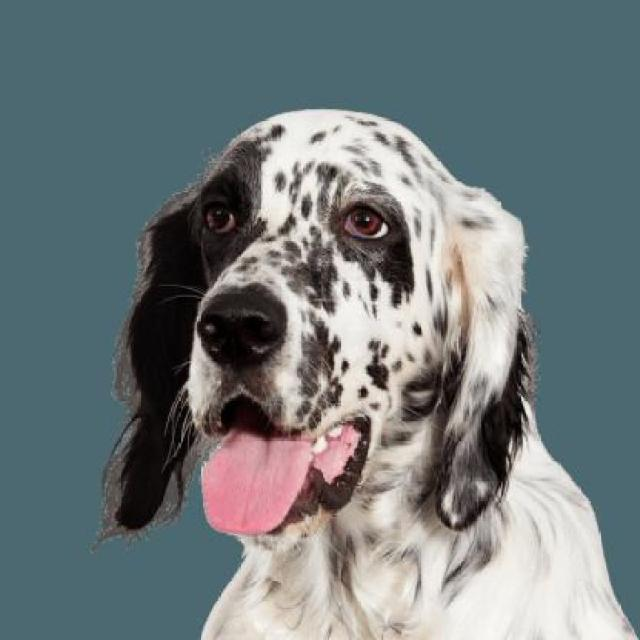animals: (43, 87, 639, 640)
